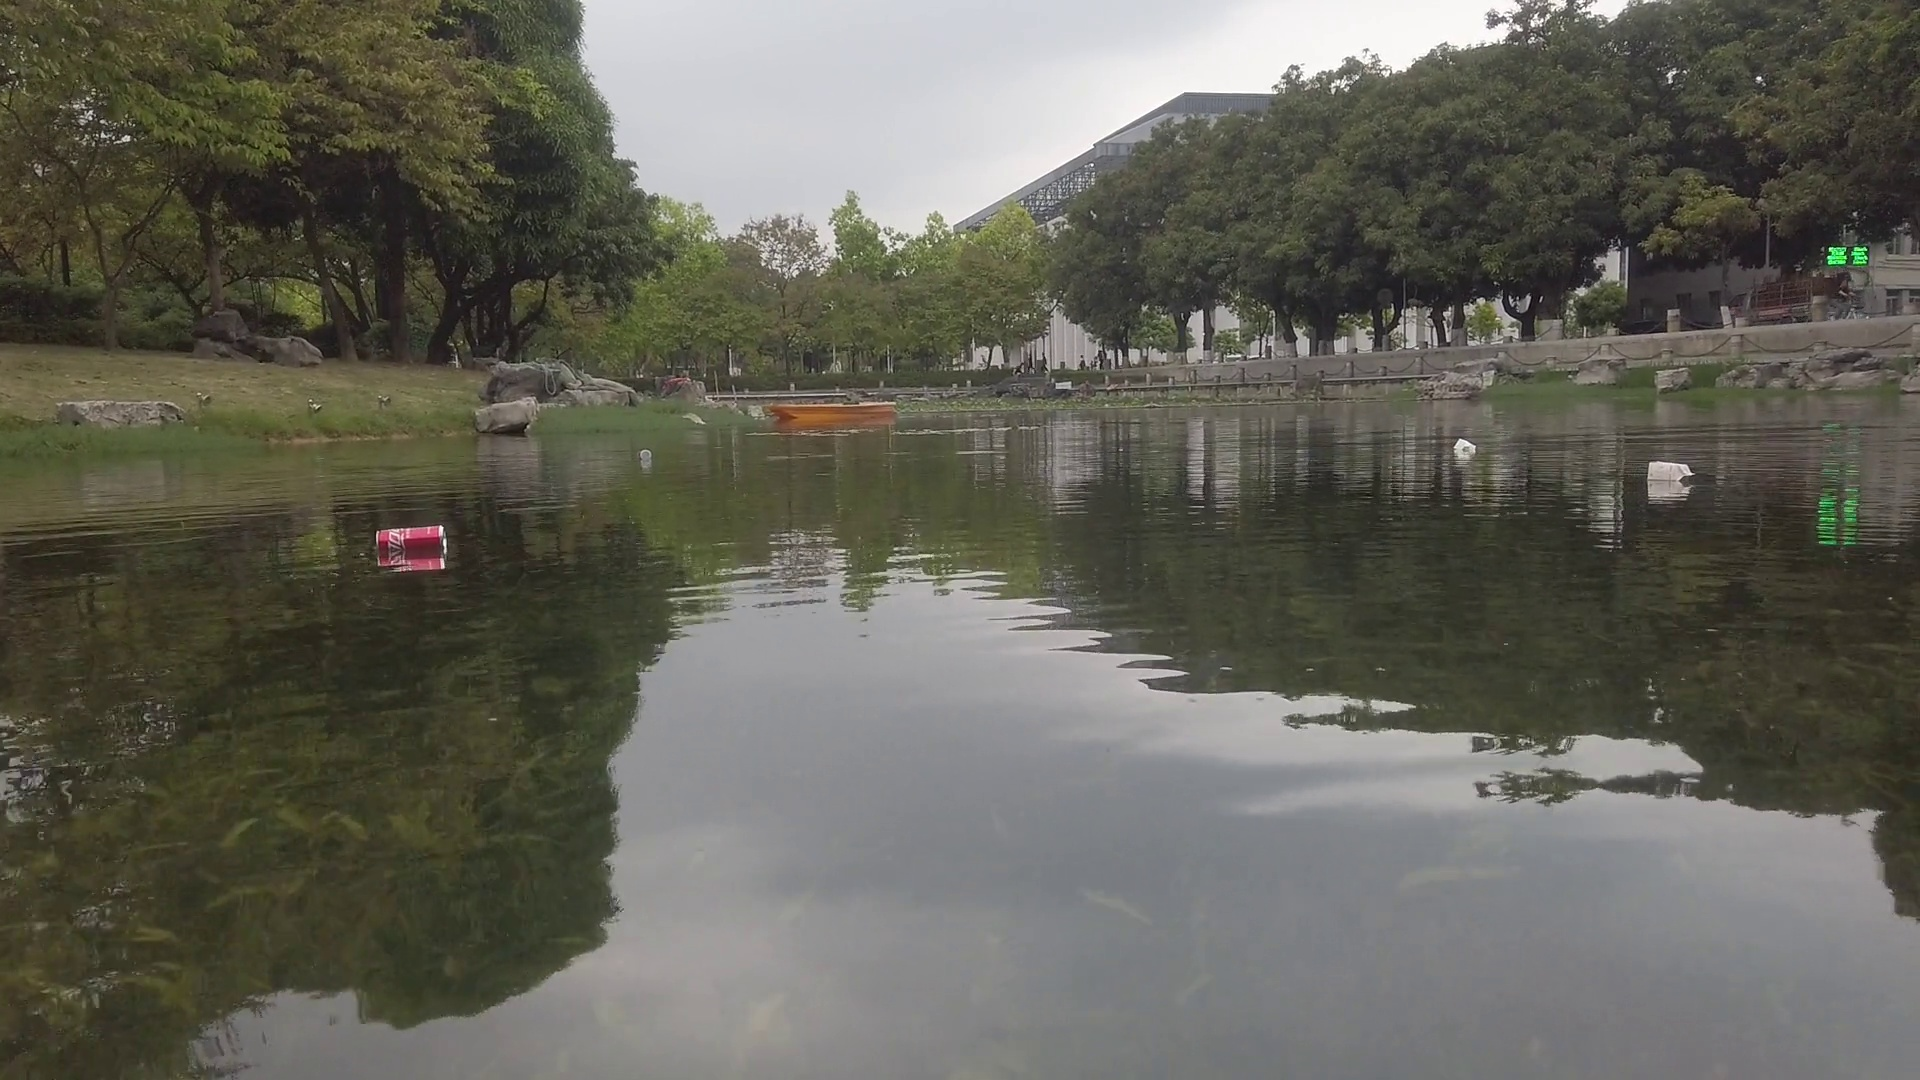bottle: (375, 526, 447, 555), (638, 444, 653, 464)
carton: (1646, 462, 1697, 483), (1455, 440, 1480, 456)
